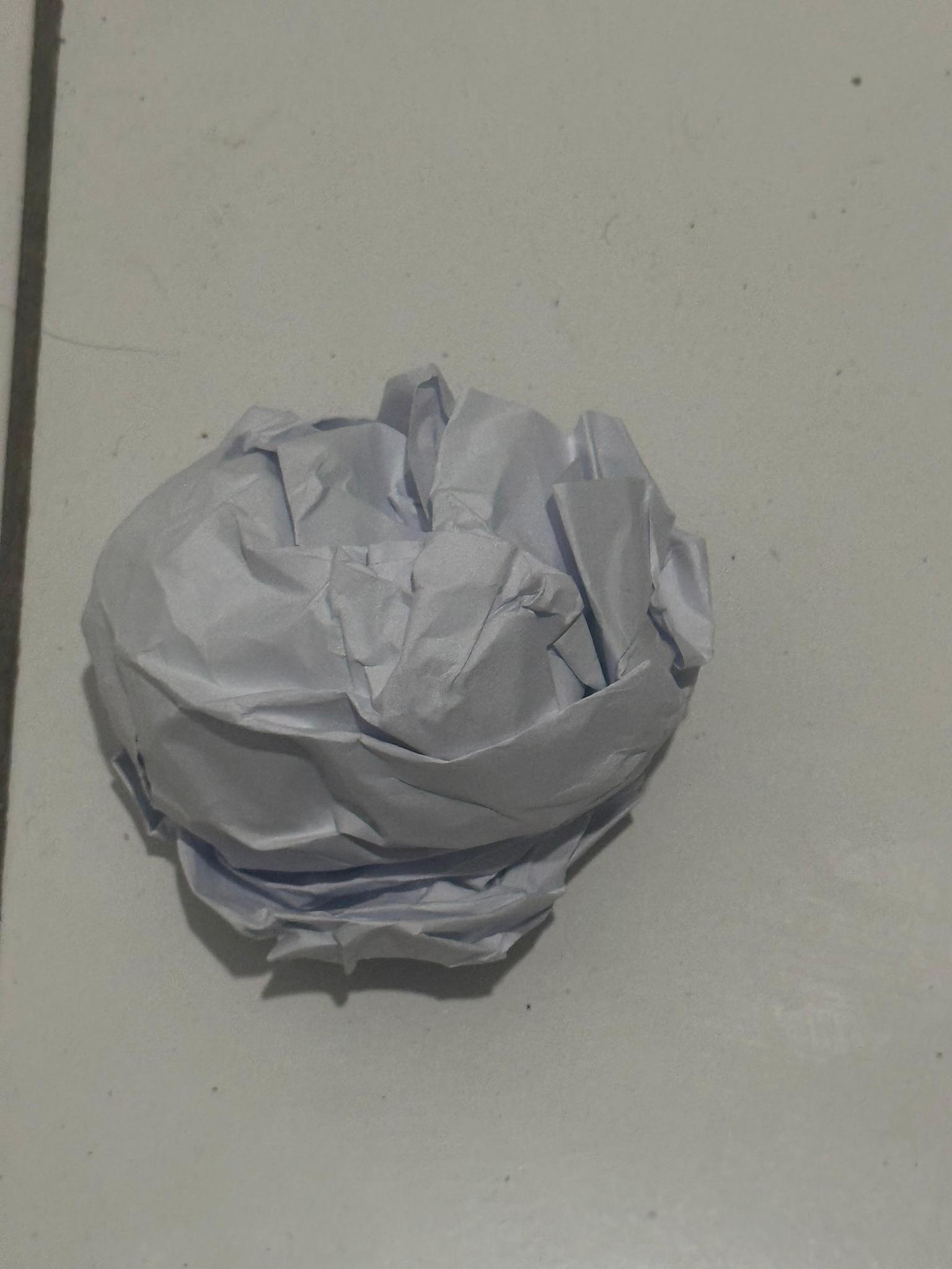Kertas: (95, 394, 717, 991)
